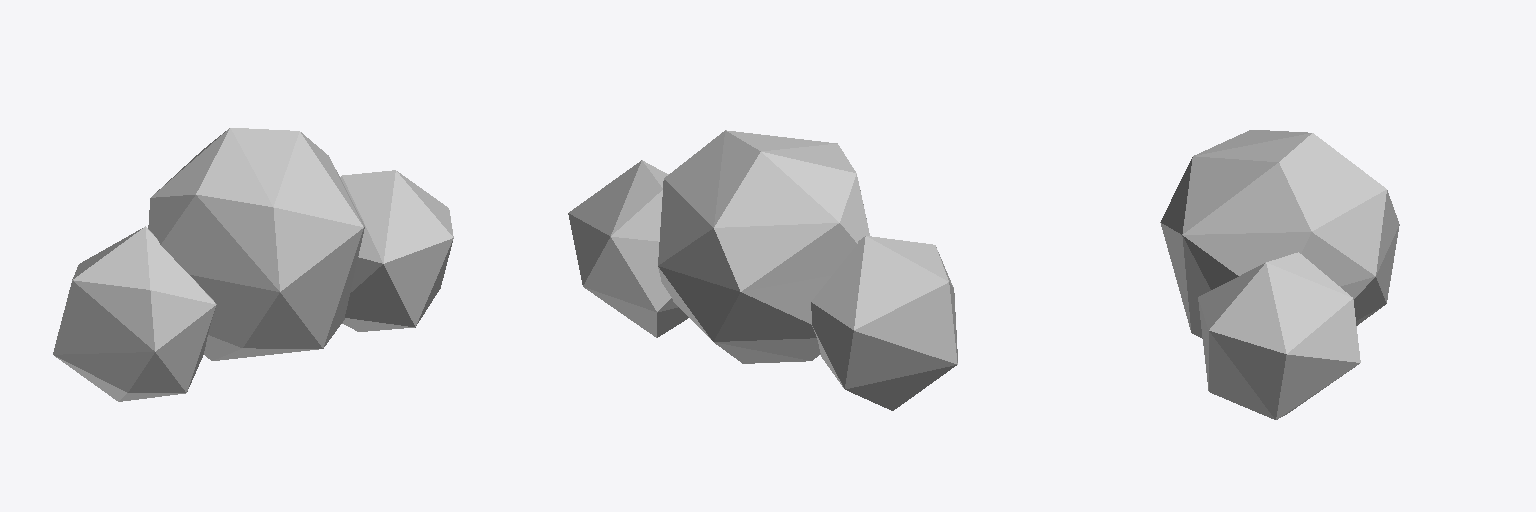
Rendered from Cloud13.obj.
3 renders of one model, left to right at view 1: azimuth 30°, elevation 25°; view 2: azimuth 150°, elevation 25°; view 3: azimuth 270°, elevation 25°, orthographic.
Parts seen in each view (by area): view 1: Cloud13_Object_64_Object_30.001; view 2: Cloud13_Object_64_Object_30.001; view 3: Cloud13_Object_64_Object_30.001.
Boxes of the visible parts, x1,y1,x2,y2 form: Cloud13_Object_64_Object_30.001: [53, 128, 453, 401]; Cloud13_Object_64_Object_30.001: [568, 130, 957, 410]; Cloud13_Object_64_Object_30.001: [1160, 130, 1399, 419].
Size of the model in its own units: 1.35 by 0.7799 by 0.7127.